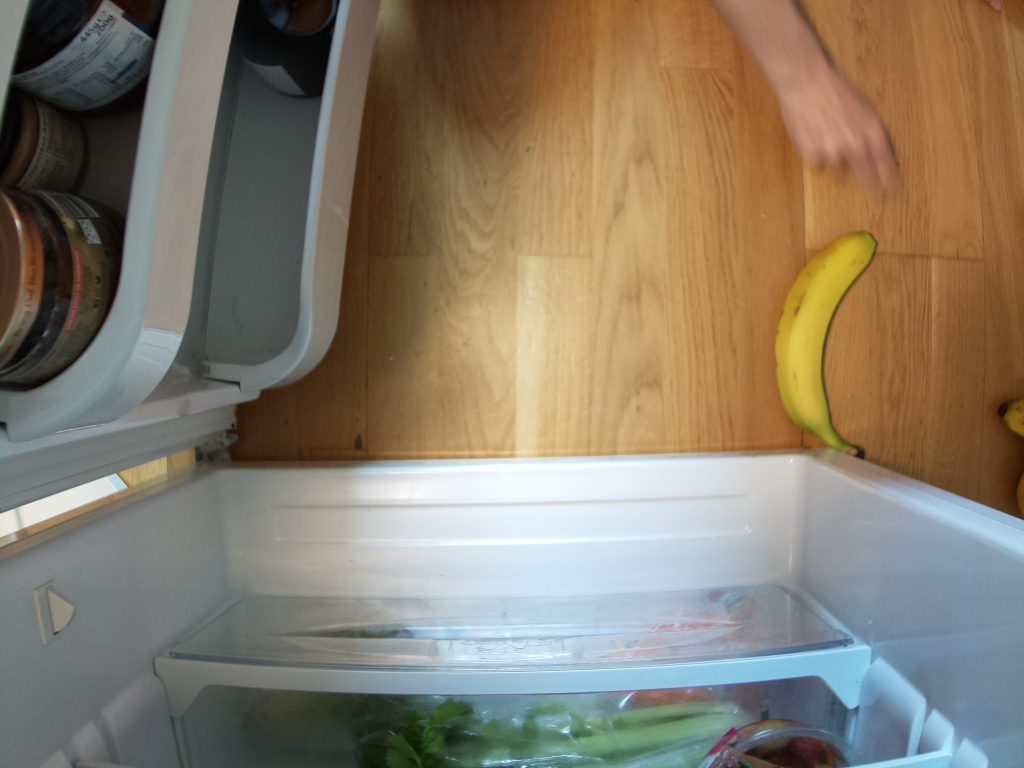banana-unripe: (770, 226, 889, 452)
